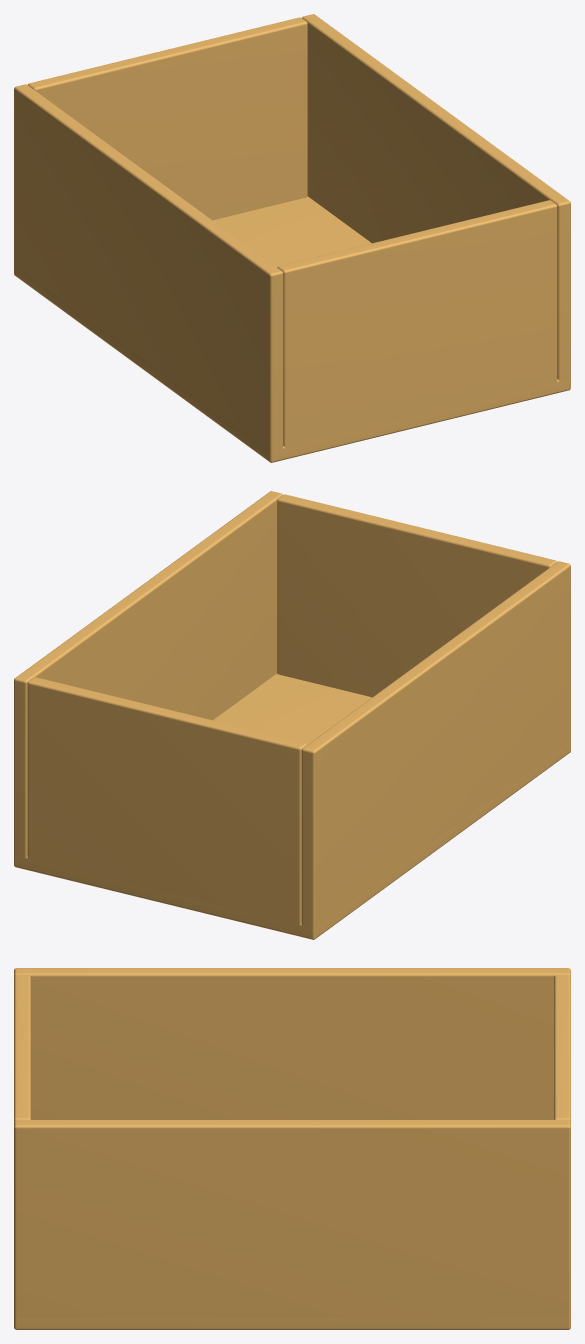
File: BAY.glb
3 renders of one model, top to bottom at view 1: azimuth 30°, elevation 25°; view 2: azimuth 150°, elevation 25°; view 3: azimuth 270°, elevation 25°, orthographic. The views are drawn at different scales.
Parts seen in each view (by area): view 1: BAY/0001_panel, BAY/0003_panel, BAY/0004_panel, BAY/0002_panel, BAY/0000_panel; view 2: BAY/0001_panel, BAY/0004_panel, BAY/0003_panel, BAY/0002_panel, BAY/0000_panel; view 3: BAY/0002_panel, BAY/0001_panel, BAY/0000_panel, BAY/0003_panel, BAY/0004_panel.
Part boxes in pixels (x1,y1,x2,y2): BAY/0001_panel: (14,84,283,451); BAY/0003_panel: (277,200,557,448); BAY/0004_panel: (28,17,307,220); BAY/0002_panel: (302,14,570,381); BAY/0000_panel: (14,196,570,462); BAY/0001_panel: (301,561,570,928); BAY/0004_panel: (27,677,307,925); BAY/0003_panel: (277,494,556,697); BAY/0002_panel: (14,491,282,858); BAY/0000_panel: (14,673,570,939); BAY/0002_panel: (14,1120,570,1317); BAY/0001_panel: (14,968,570,1119); BAY/0000_panel: (14,1317,570,1329); BAY/0003_panel: (14,975,30,1121); BAY/0004_panel: (554,975,570,1121).
Size of the model in its own units: 0.1 by 0.06 by 0.148.
